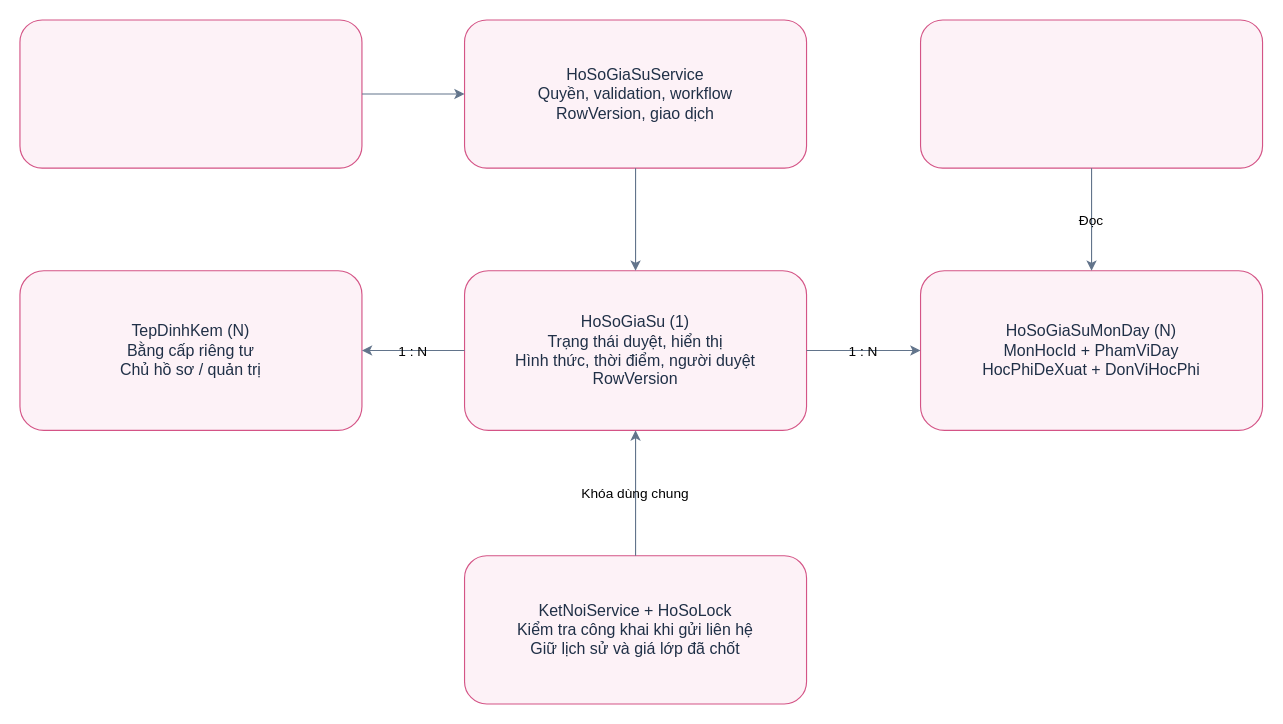
Some shapes in this 1283 by 724 pixel diagram are drawn without their labels. Each missing label, with the centre of its shape:
Razor / Bootstrap / AJAX HoSoGiaSuController QuanTri.HoSoController: point (190, 93)
TimKiemService Một hồ sơ / gia sư Lọc giá cùng hàng môn: point (1091, 93)
